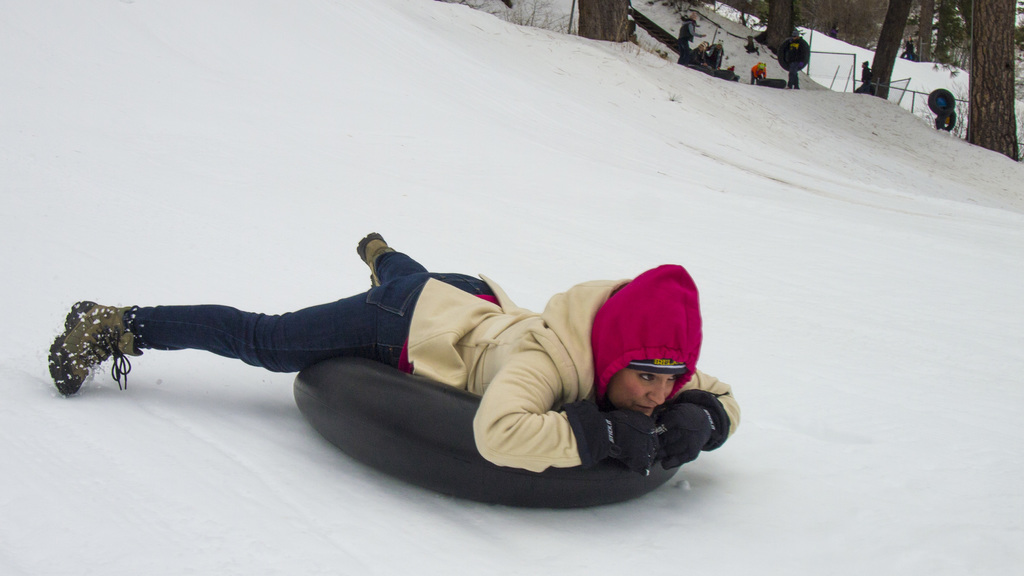Person: (47, 231, 741, 474), (676, 8, 874, 93)
